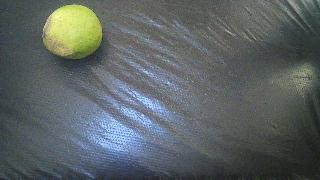DESECHO: (42, 4, 103, 59)
